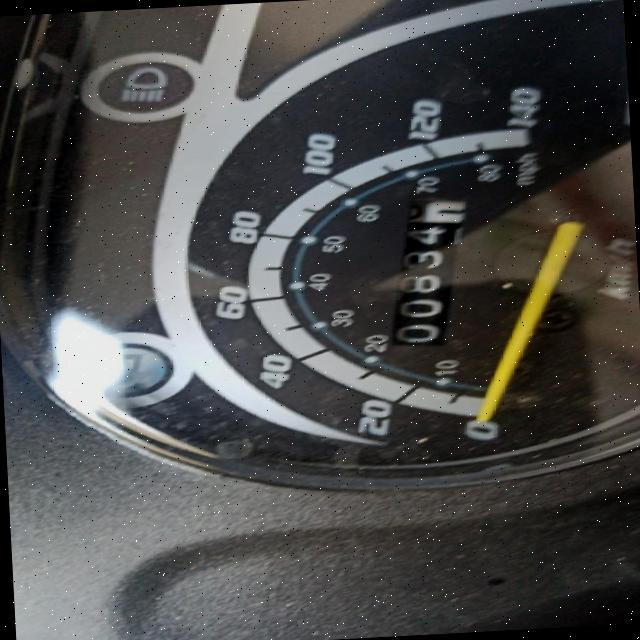odometer: (374, 194, 482, 351)
